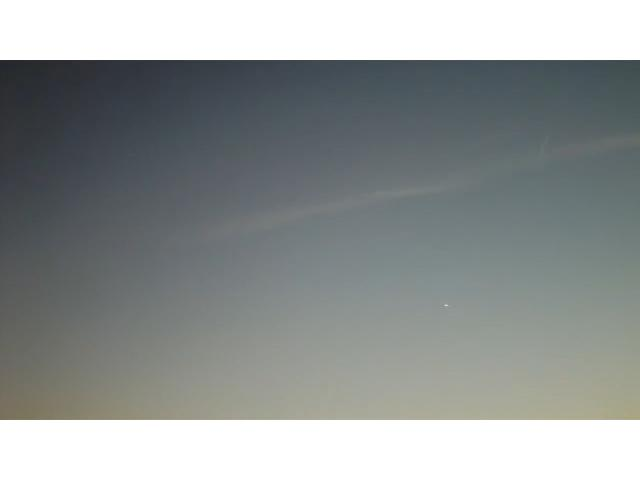Anti-Drone: (440, 296, 454, 312)
